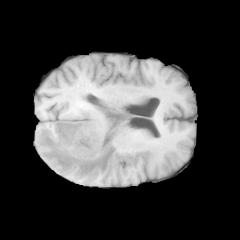glioma: (40, 82, 120, 178)
